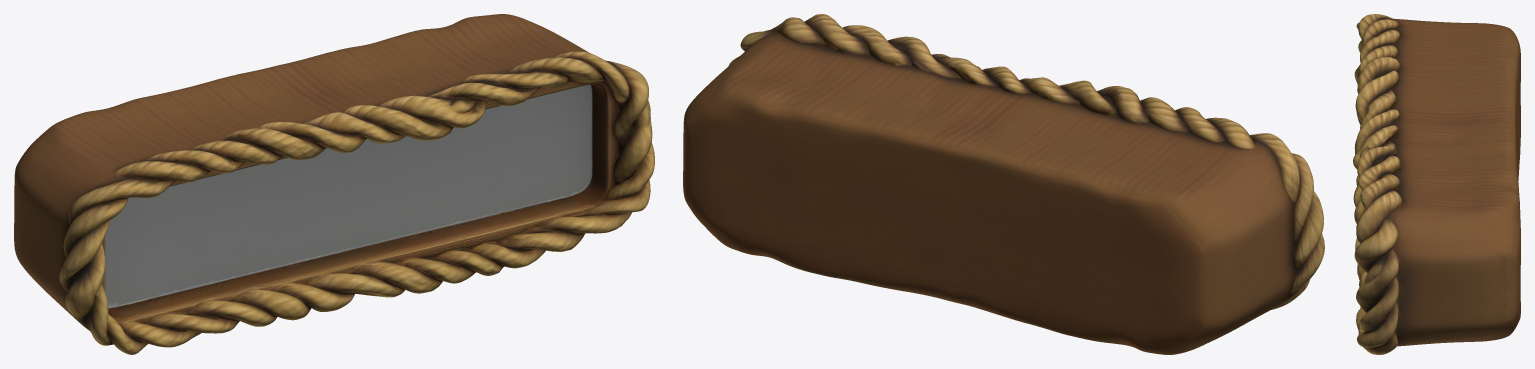
The model's file is roped_button-hd.glb.
3 views of the same model, side by side, from view 1: azimuth 30°, elevation 25°; view 2: azimuth 150°, elevation 25°; view 3: azimuth 270°, elevation 25° (orthographic). The views are drawn at different scales.
Size of the model in its own units: 1.9 by 0.6129 by 0.5677.
1 material, 1 textured.
